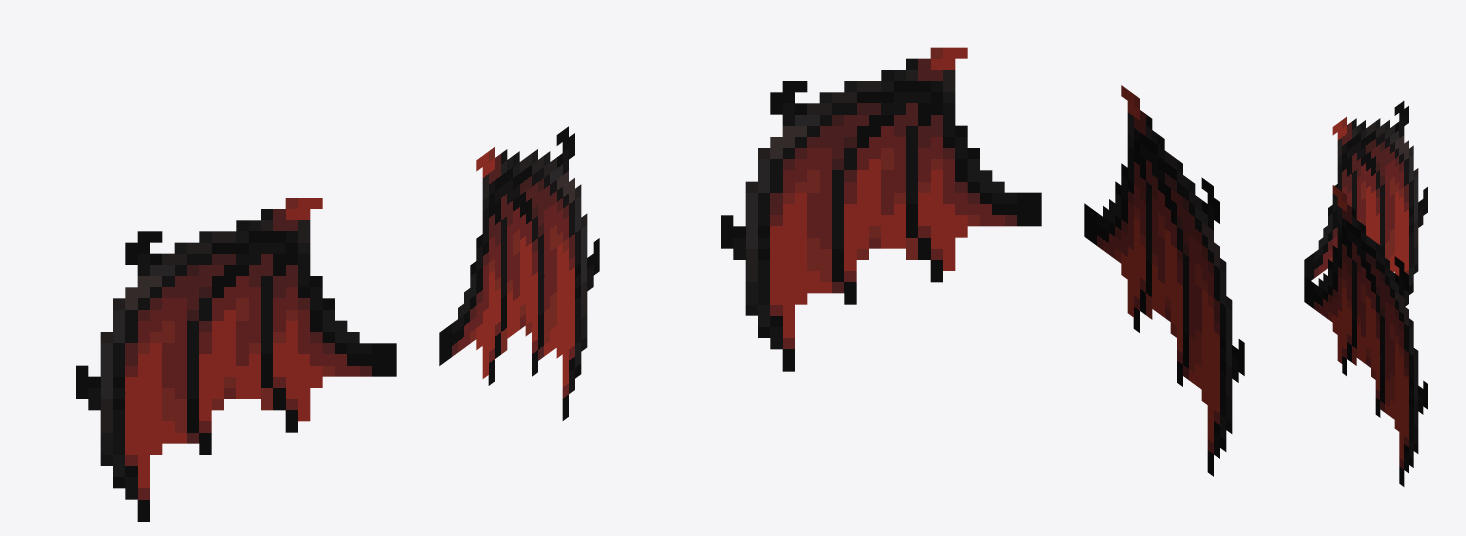
The model's file is sl_demonic_wings.glb.
3 views of the same model, side by side, from view 1: azimuth 30°, elevation 25°; view 2: azimuth 150°, elevation 25°; view 3: azimuth 270°, elevation 25° (orthographic). The views are drawn at different scales.
Visible parts, largest first — view 1: bb_demonic_wings; view 2: bb_demonic_wings; view 3: bb_demonic_wings.
Boxes of the visible parts, <box> form: bb_demonic_wings: <box>76,126,599,521</box>; bb_demonic_wings: <box>721,47,1244,476</box>; bb_demonic_wings: <box>1304,101,1427,486</box>.
Bounding box in the file's own units: 3.61 × 2 × 0.9688.
1 material, 1 textured.
